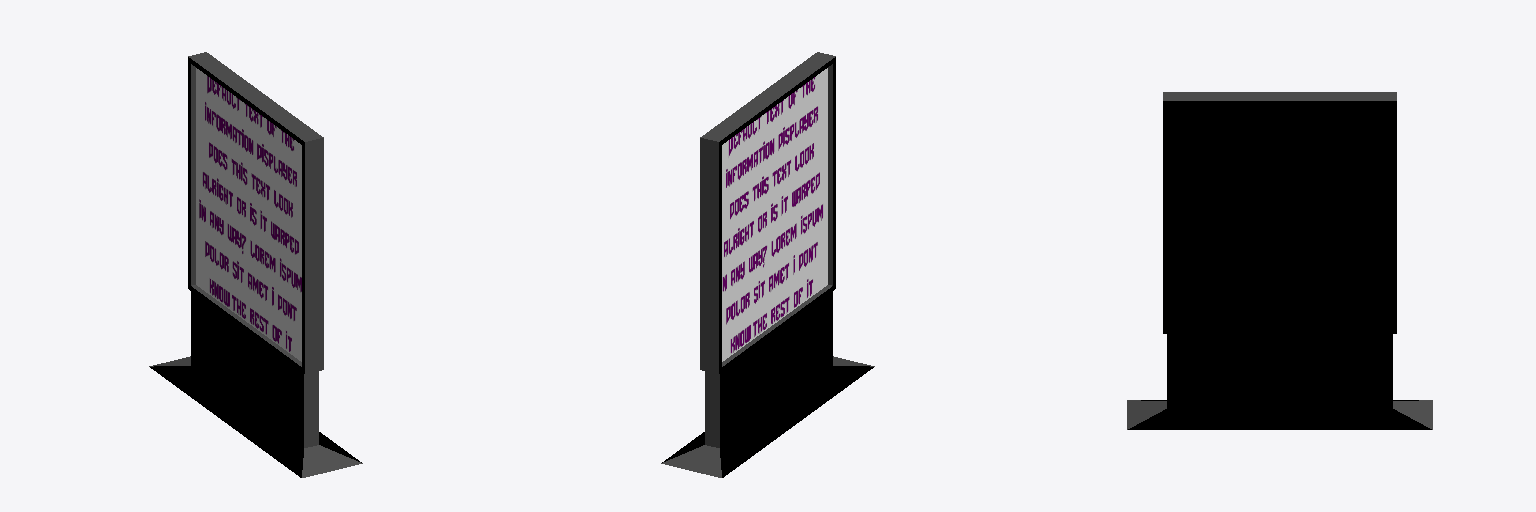
3 renders of one model, left to right at view 1: azimuth 30°, elevation 25°; view 2: azimuth 150°, elevation 25°; view 3: azimuth 270°, elevation 25°, orthographic.
Visible parts, largest first — view 1: Cube_Cube.001; view 2: Cube_Cube.001; view 3: Cube_Cube.001.
Boxes of the visible parts, x1,y1,x2,y2 form: Cube_Cube.001: [149, 52, 362, 477]; Cube_Cube.001: [661, 52, 874, 477]; Cube_Cube.001: [1127, 92, 1432, 429].
Bounding box in the file's own units: 1.67 × 8.28 × 7.22.
2 materials, 2 textured.